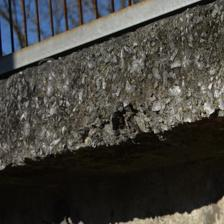Crack: (36, 51, 120, 101)
